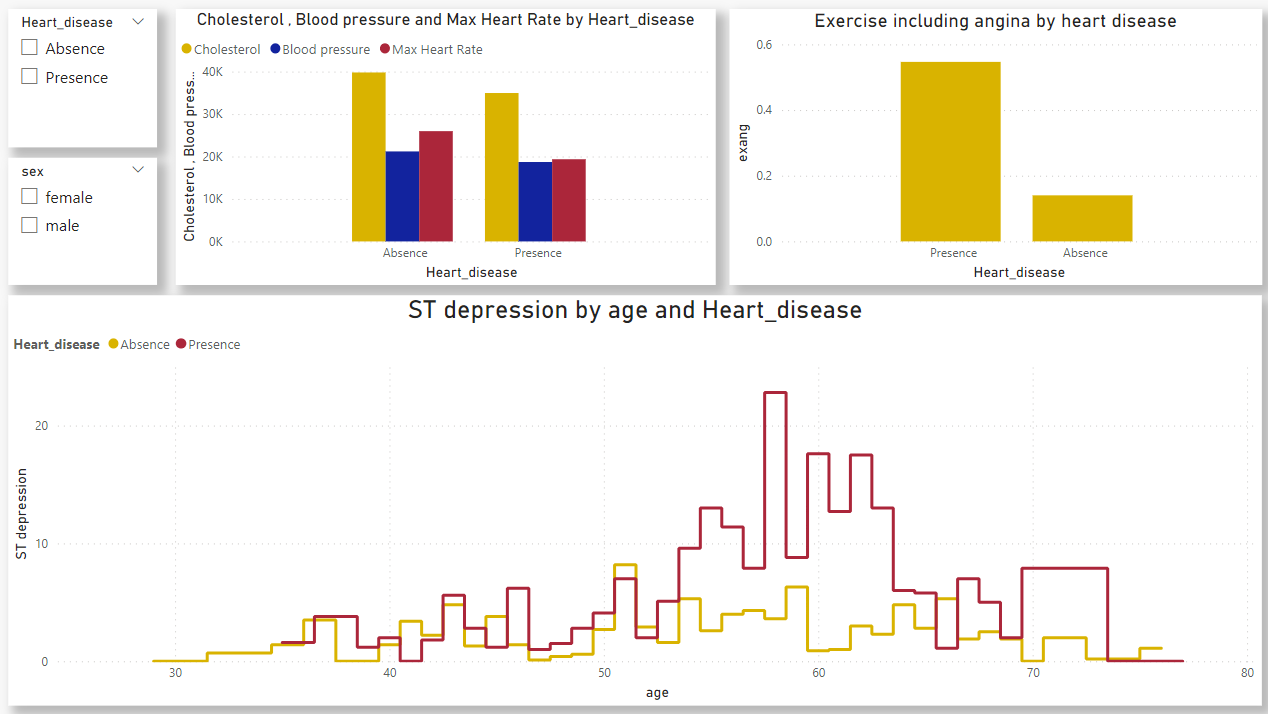

This screenshot's page, from the dashboard's own definition file:
{"tool":"powerbi","page":{"name":"Page 2","canvas":[1280,720],"ordinal":1},"visuals":[{"type":"slicer","fields":{"Values":["heart_disease_cleaned.Heart_disease"]},"box":[11.2,10,148.8,138.8],"z":0},{"type":"slicer","fields":{"Values":["heart_disease_cleaned.sex"]},"box":[11.2,158.8,148.8,127.5],"z":1},{"type":"clusteredColumnChart","fields":{"Category":["heart_disease_cleaned.Heart_disease"],"Y":["Sum(heart_disease_cleaned.chol)","Sum(heart_disease_cleaned.trestbps)","Sum(heart_disease_cleaned.thalach)"]},"box":[178.8,10,540,276.2],"z":2},{"type":"clusteredColumnChart","title":" Exercise including angina by heart disease","fields":{"Y":["Avg(heart_disease_cleaned.exang)"],"Category":["heart_disease_cleaned.Heart_disease"]},"box":[732.5,10,532.5,276.2],"z":3},{"type":"lineChart","fields":{"Category":["heart_disease_cleaned.age"],"Series":["heart_disease_cleaned.Heart_disease"],"Y":["Sum(heart_disease_cleaned.oldpeak)"]},"box":[11.2,296.2,1253.8,410],"z":4}]}

Visuals, with their boxes in screenshot pixels (x1, y1, x2, y2), scaled from the page's 1280x720 canvas onto the 1268x714 screenshot:
slicer - heart_disease_cleaned.Heart_disease: 11, 10, 158, 148
slicer - heart_disease_cleaned.sex: 11, 157, 158, 284
clusteredColumnChart - heart_disease_cleaned.Heart_disease x Sum(heart_disease_cleaned.chol): 177, 10, 712, 284
" Exercise including angina by heart disease" clusteredColumnChart: 726, 10, 1253, 284
lineChart - heart_disease_cleaned.age x heart_disease_cleaned.Heart_disease: 11, 294, 1253, 700
